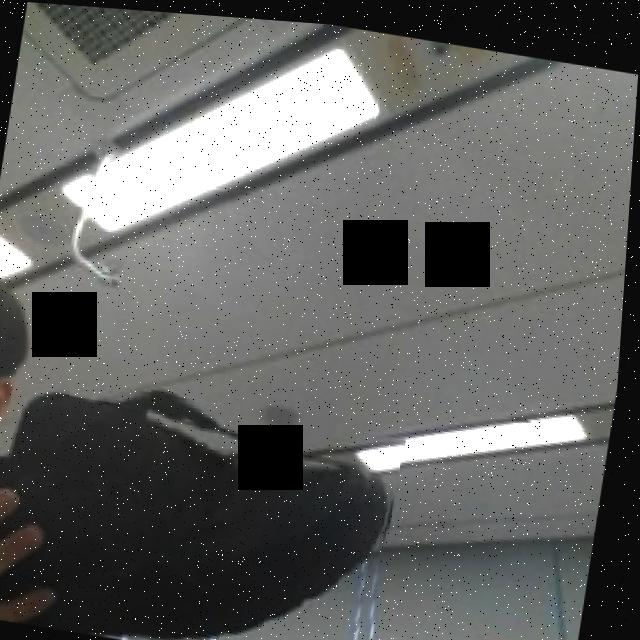shoe: (0, 363, 414, 640)
